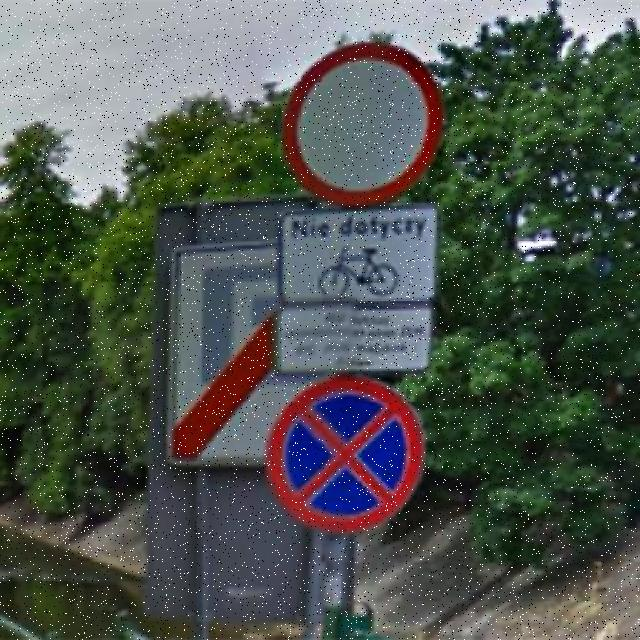Zakaz ruchu w obu kierunkach: (278, 38, 442, 210)
Zakaz zatrzymywania sie: (261, 372, 428, 536)
